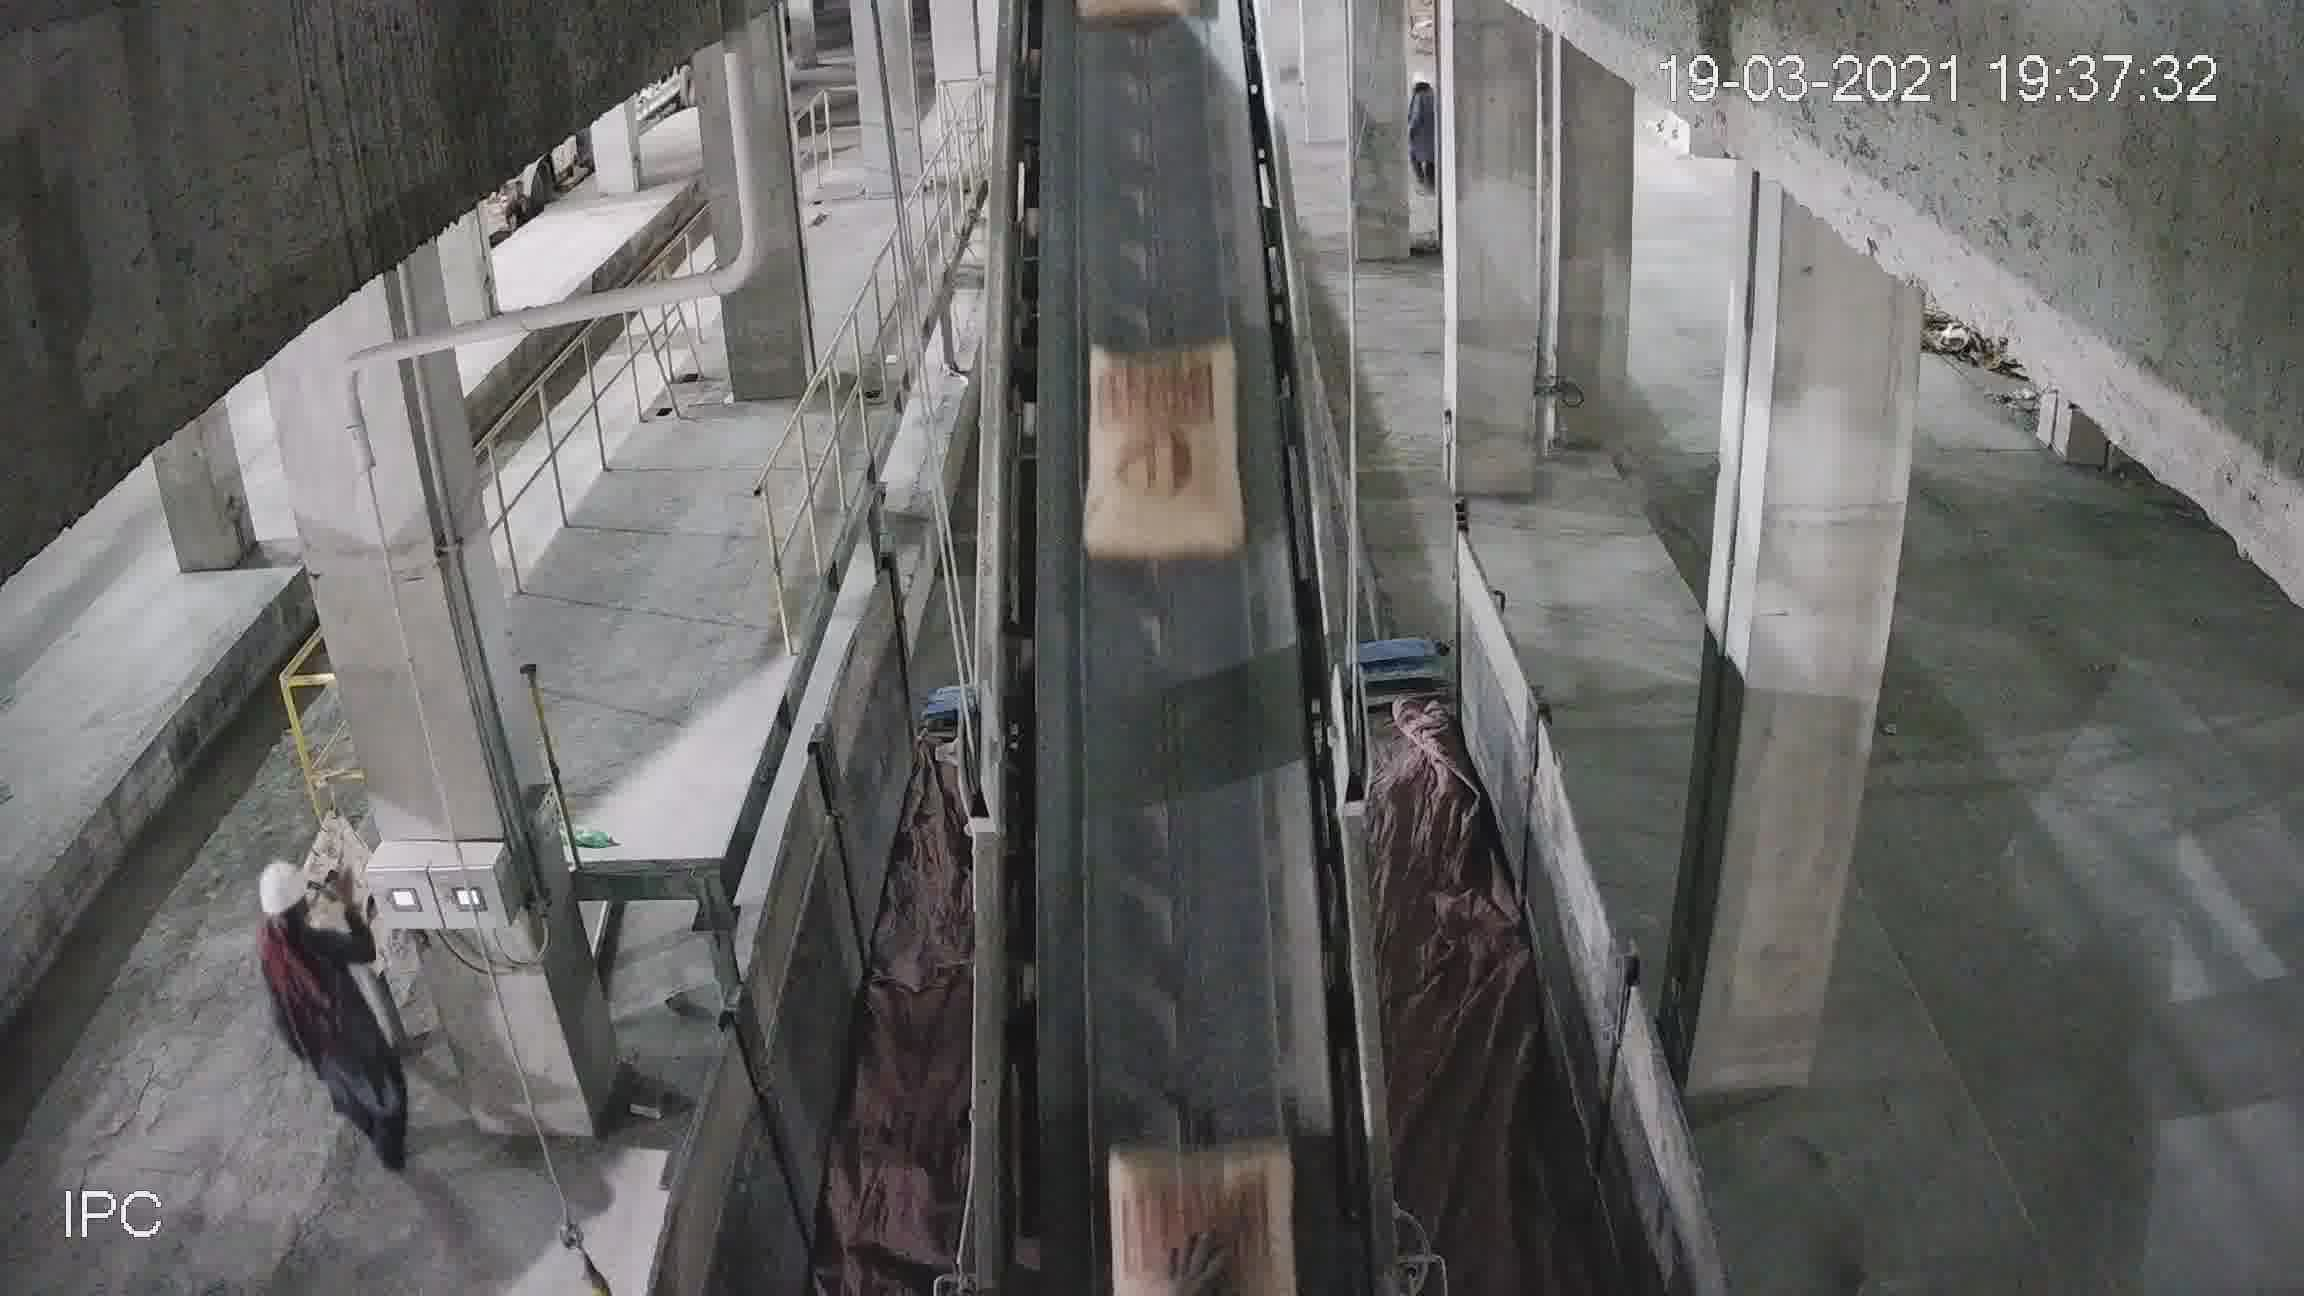bag: (1082, 342, 1242, 570), (1105, 1125, 1291, 1199)
belt: (983, 11, 1358, 1139)
